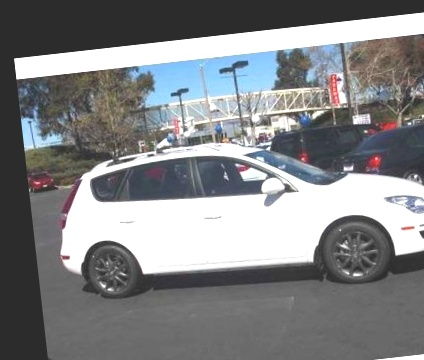car: (47, 104, 424, 351)
